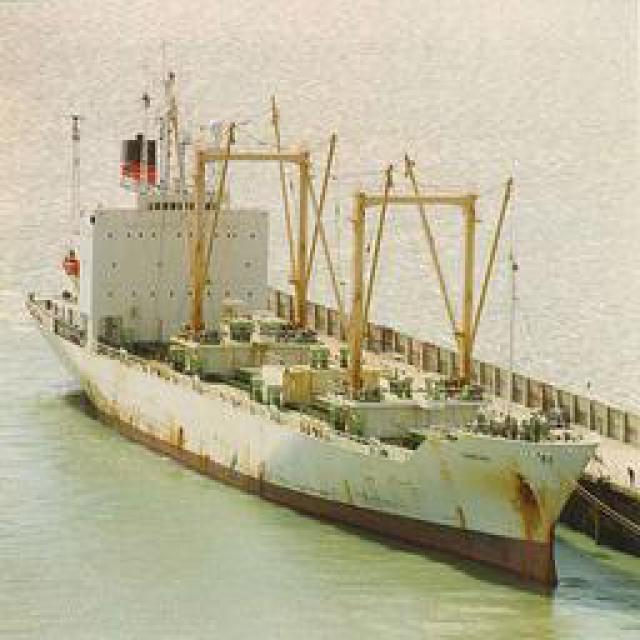Ship: (28, 113, 603, 601)
